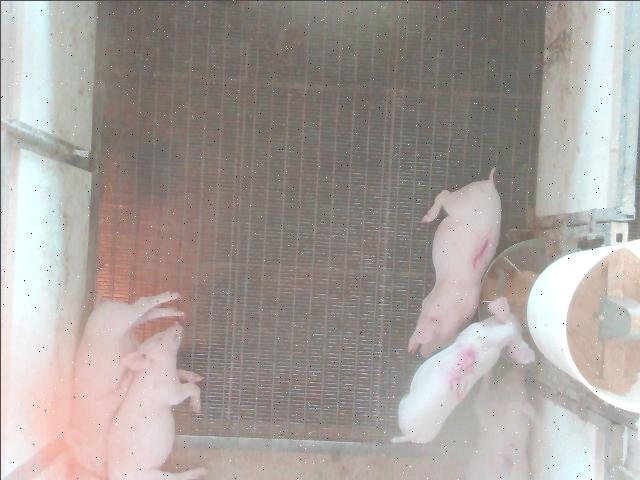pig-1: (408, 168, 500, 356)
pig-3: (466, 366, 532, 478)
pig-5: (392, 296, 534, 441)
